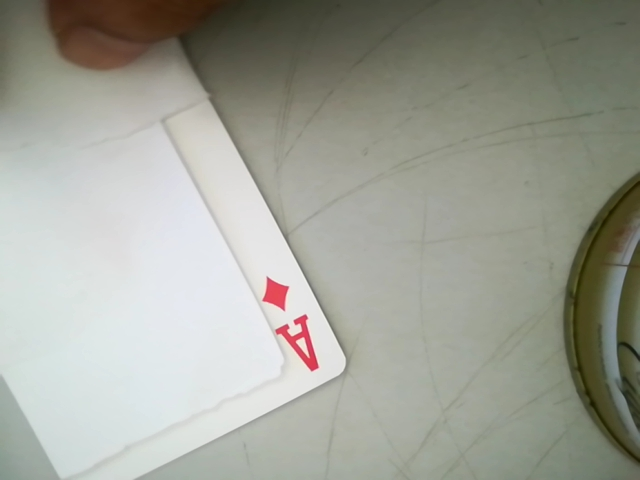fk a: (250, 271, 329, 380)
